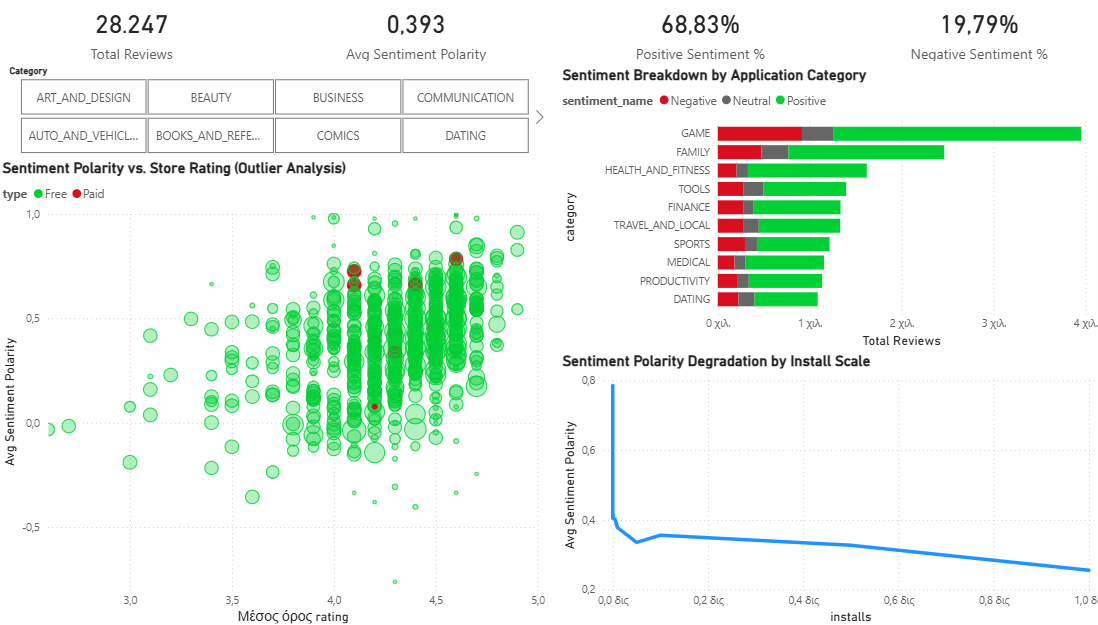

The dashboard page shown, as its layout file describes it:
{"tool":"powerbi","page":{"name":"Influencing Factors","canvas":[1280,720],"ordinal":2},"visuals":[{"type":"scatterChart","title":"Sentiment Polarity vs. Store Rating (Outlier Analysis)","fields":{"Category":["playstore_dw dim_apps.app_name"],"X":["playstore_dw dim_apps.rating"],"Y":["_Measures.Avg Sentiment Polarity"],"Size":["_Measures.Total Reviews"],"Series":["playstore_dw dim_apps.type"]},"box":[0,184.3,630,535.7],"z":0},{"type":"barChart","title":"Sentiment Breakdown by Application Category","fields":{"Category":["playstore_dw dim_apps.category"],"Y":["_Measures.Total Reviews"],"Series":["playstore_dw dim_sentiment_types.sentiment_name"]},"box":[640,77.1,630,327.1],"z":1000},{"type":"lineChart","title":"Sentiment Polarity Degradation by Install Scale","fields":{"Category":["playstore_dw dim_apps.installs"],"Y":["_Measures.Avg Sentiment Polarity"]},"box":[640,404.3,630,315.7],"z":2000},{"type":"slicer","fields":{"Values":["playstore_dw dim_apps.category"]},"box":[0,71.4,630,112.9],"z":3000},{"type":"card","fields":{"Values":["_Measures.Total Reviews"]},"box":[0,0,305.7,77.1],"z":4000},{"type":"card","fields":{"Values":["_Measures.Avg Sentiment Polarity"]},"box":[315.7,0,324.3,77.1],"z":5000},{"type":"card","fields":{"Values":["_Measures.Positive Sentiment %"]},"box":[642.9,0,320,77.1],"z":6000},{"type":"card","fields":{"Values":["_Measures.Negative Sentiment %"]},"box":[962.9,0,317.1,77.1],"z":7000}]}

Visuals, with their boxes in screenshot pixels (x1, y1, x2, y2), scaled from the page's 1280x720 canvas onto the 1098x625 screenshot:
"Sentiment Polarity vs. Store Rating (Outlier Analysis)" scatterChart: {"left": 0, "top": 160, "right": 540, "bottom": 624}
"Sentiment Breakdown by Application Category" barChart: {"left": 549, "top": 67, "right": 1089, "bottom": 351}
"Sentiment Polarity Degradation by Install Scale" lineChart: {"left": 549, "top": 351, "right": 1089, "bottom": 624}
slicer - playstore_dw dim_apps.category: {"left": 0, "top": 62, "right": 540, "bottom": 160}
card - _Measures.Total Reviews: {"left": 0, "top": 0, "right": 262, "bottom": 67}
card - _Measures.Avg Sentiment Polarity: {"left": 271, "top": 0, "right": 549, "bottom": 67}
card - _Measures.Positive Sentiment %: {"left": 551, "top": 0, "right": 826, "bottom": 67}
card - _Measures.Negative Sentiment %: {"left": 826, "top": 0, "right": 1097, "bottom": 67}
